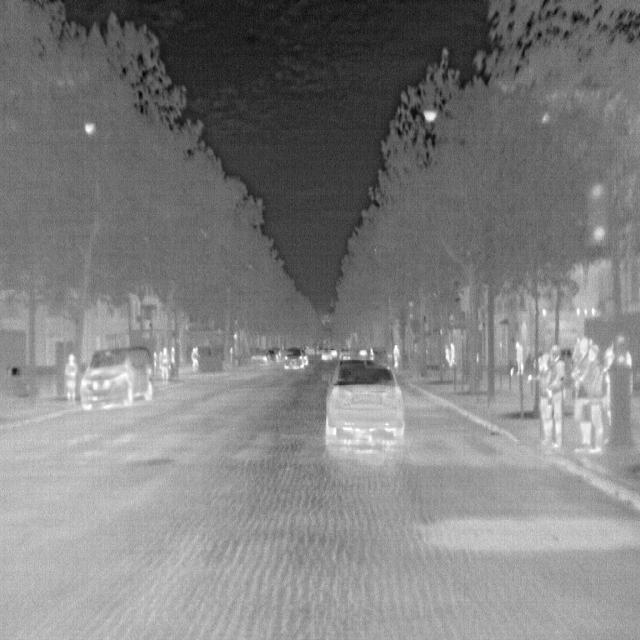Pedestrian: (537, 343, 569, 448), (578, 345, 605, 453), (572, 338, 594, 454), (62, 351, 80, 404), (159, 347, 170, 382), (515, 341, 524, 377), (392, 344, 400, 370)
Vehicle: (322, 355, 406, 447), (75, 341, 154, 410), (283, 346, 306, 372)
